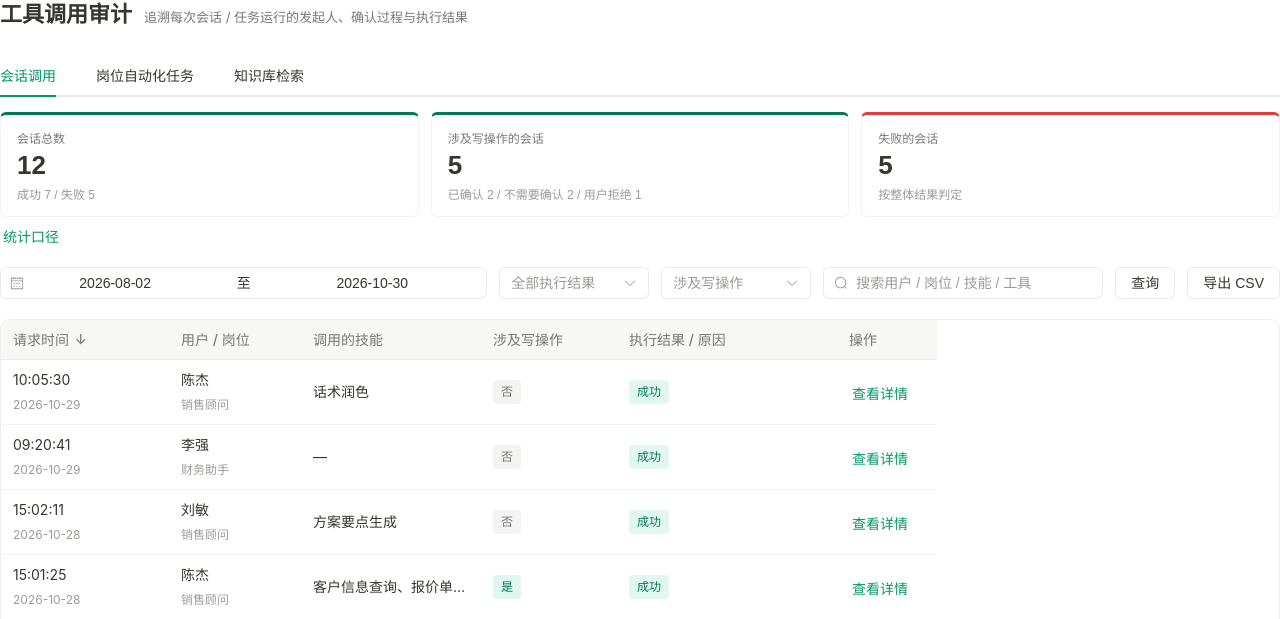
Test: 岗位自动化任务页签（PRD §八） › 涉及写操作且成功的运行（拜访前资料准备）：详情展示写操作但不展示任何确认 / 授权标签
The width and height of the screenshot is (1280, 619).
Click the tab "岗位自动化任务" at (145, 76), box [96,67,194,84]
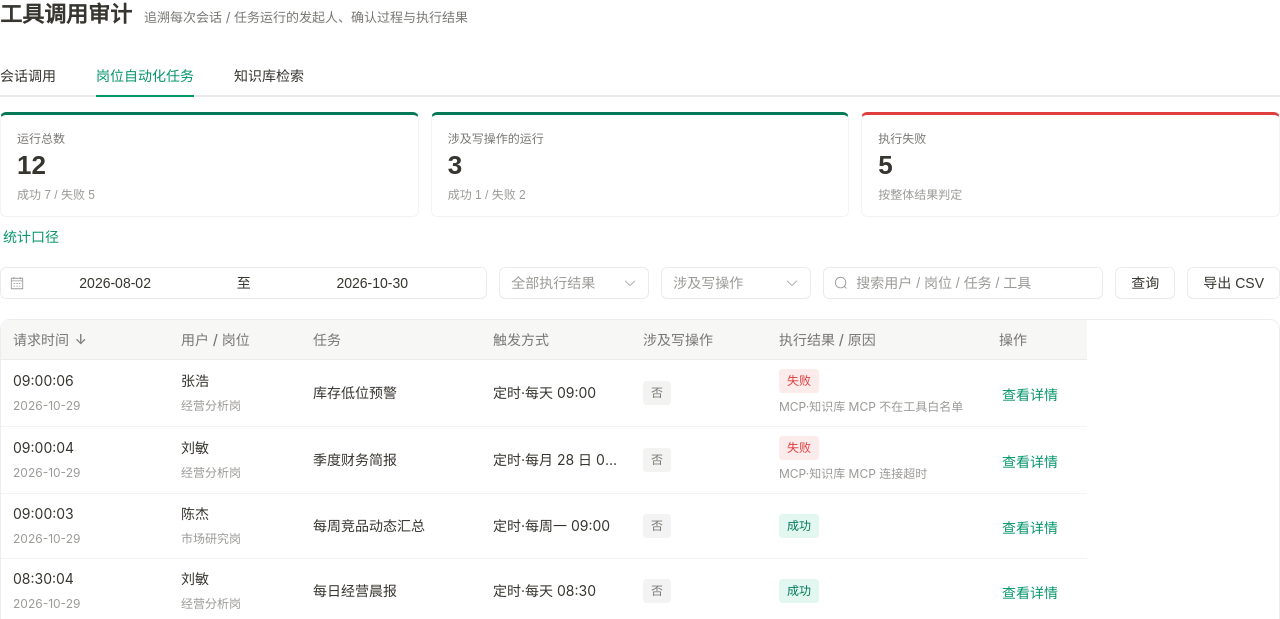
Click the button with class "metric-card" showing "涉及写操作的运行 3 成功 1 / 失败 2" at (496, 139), box [431,112,849,217]
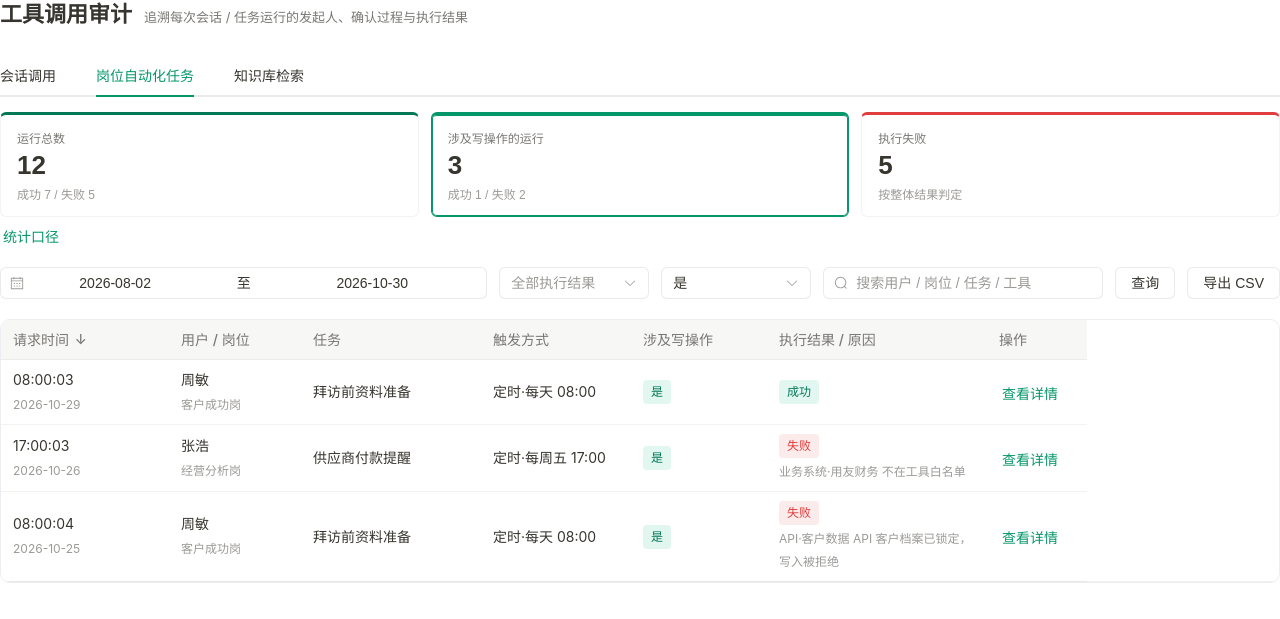
Click the button "查看详情" in the row of "08:00:03" at (1030, 394), box [999,384,1061,404]
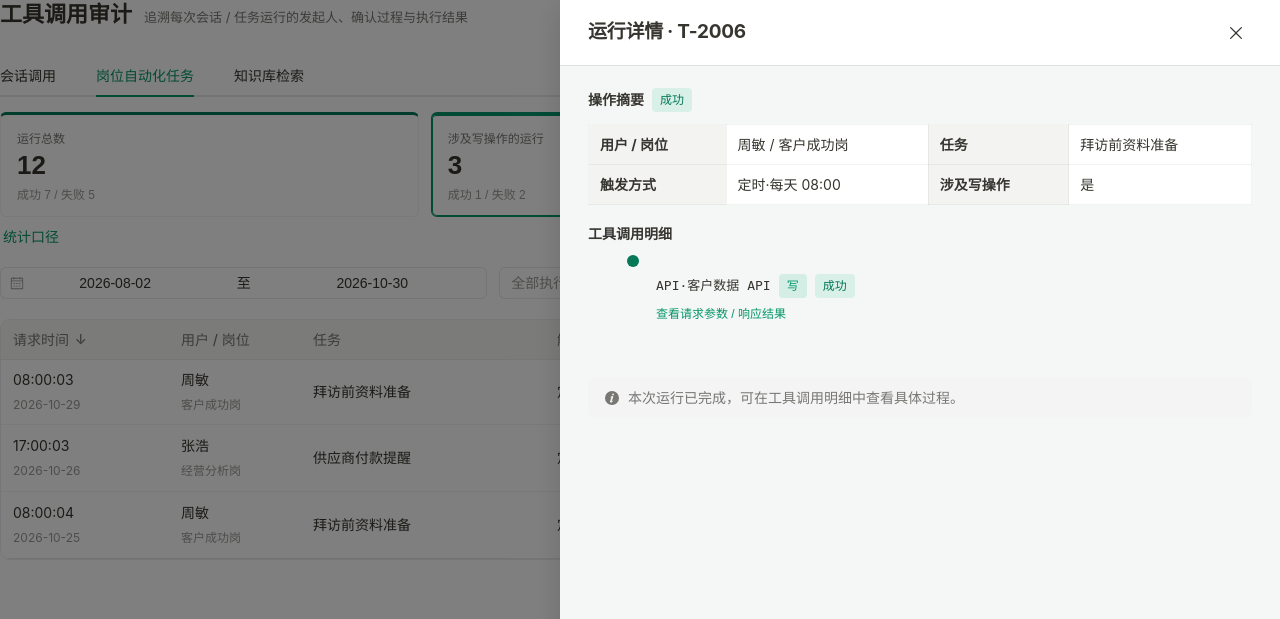
Expected: the button "已确认 2 / 不需要确认 2 / 用户拒绝 1" does not show "已确认"
Now the element that starts with "操作摘要" shows "写", box [787,278,799,293]
Now the button with class "call-item-toggle" is shown, box [656,304,786,321]
